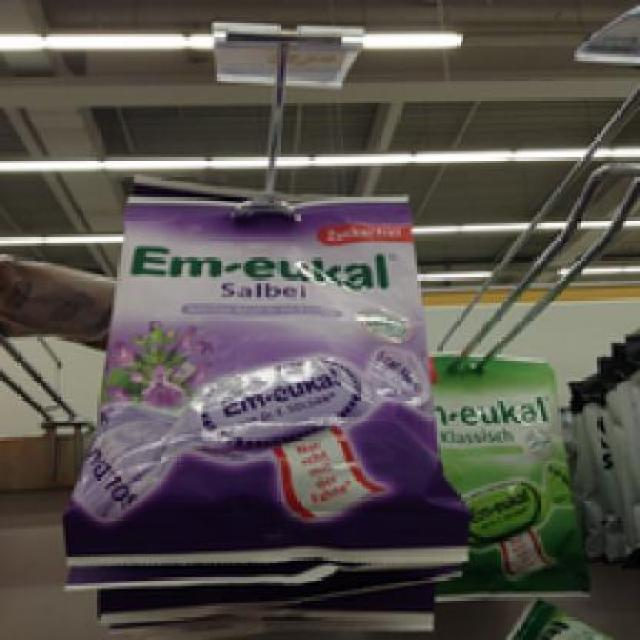Candy: (71, 185, 458, 558), (400, 330, 586, 586)
